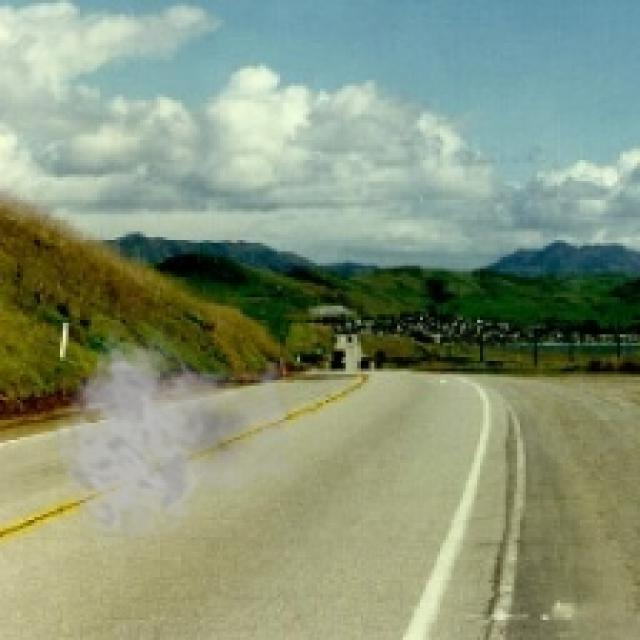Smoke: (52, 319, 308, 552)
